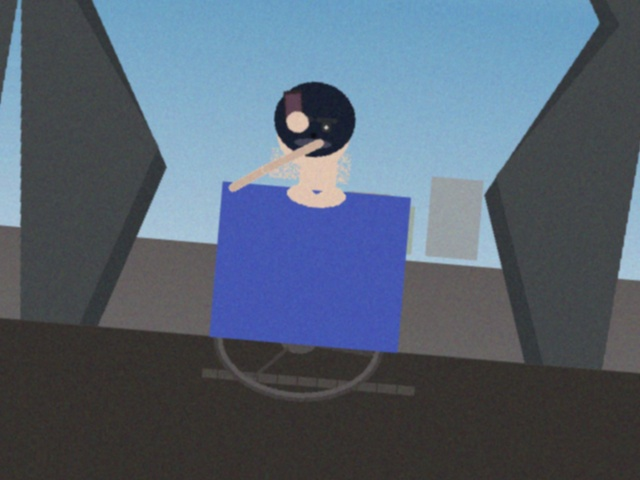phone_usage: (265, 86, 299, 132)
